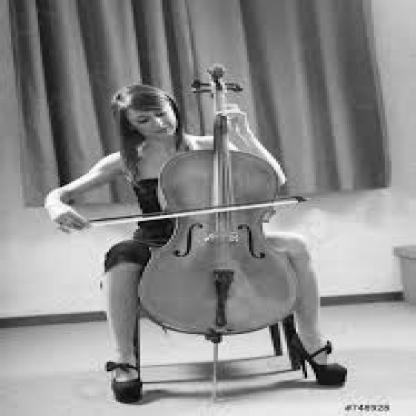bad: (39, 200, 90, 234)
